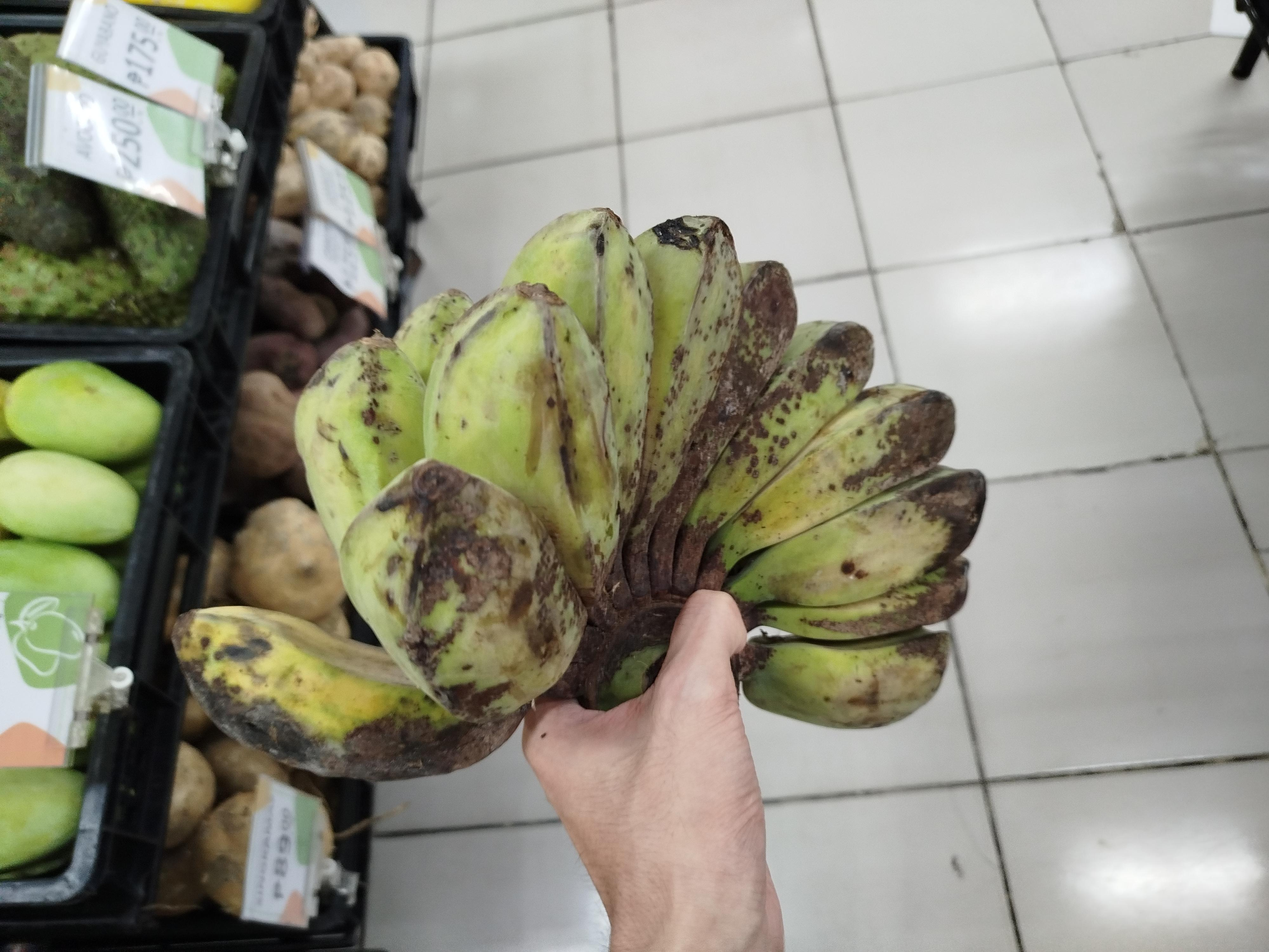underripe: (174, 208, 985, 780)
